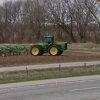Tractor: (22, 36, 69, 62)
